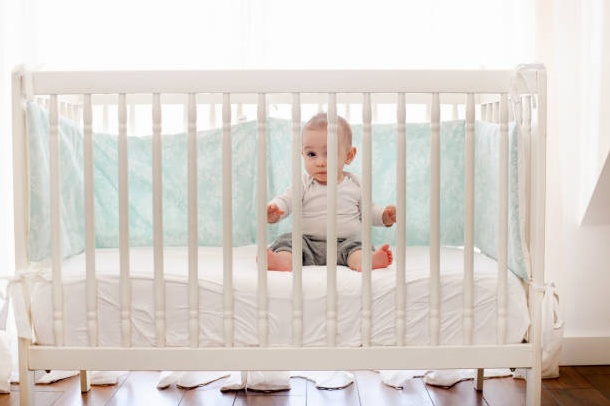baby: (336, 117, 361, 270)
crib: (11, 66, 545, 403)
